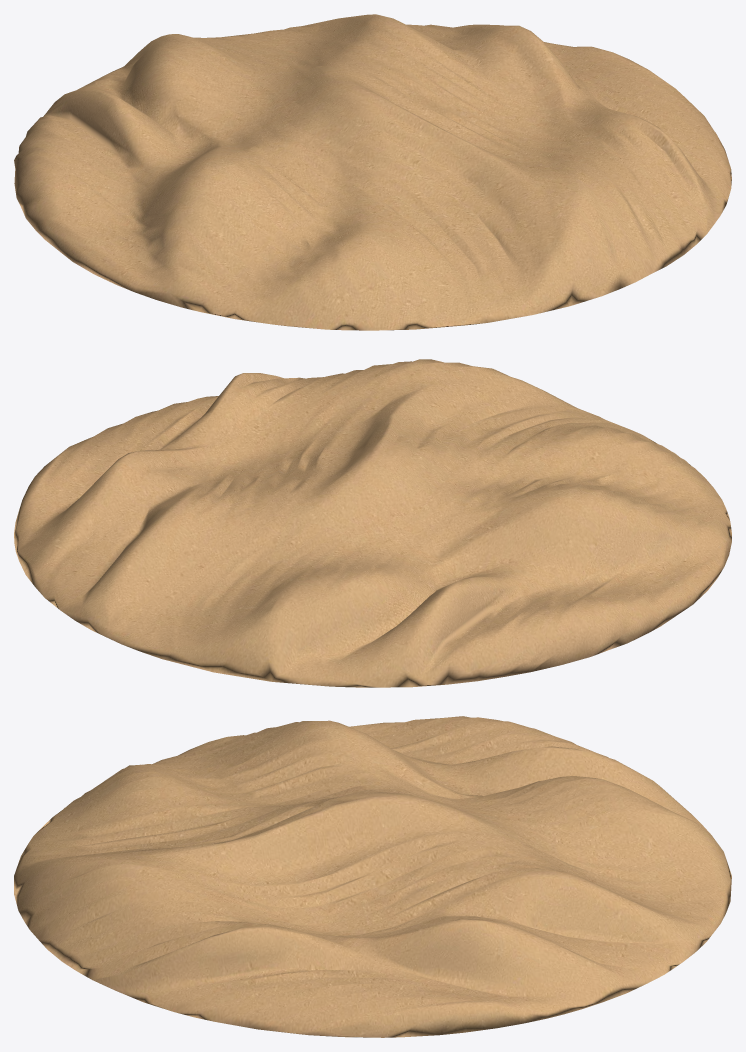
Rendered from kw_sand.glb.
The picture shows the model from 3 angles, top to bottom: view 1: azimuth 30°, elevation 25°; view 2: azimuth 150°, elevation 25°; view 3: azimuth 270°, elevation 25°; orthographic projection.
Parts seen in each view (by area): view 1: frame; view 2: frame; view 3: frame.
Part boxes in pixels (x1,y1,x2,y2): frame: [14, 14, 731, 330]; frame: [14, 359, 731, 687]; frame: [14, 716, 731, 1037].
Bounding box in the file's own units: 14 × 1.87 × 14.
Materials: 1 (1 with a texture image).
